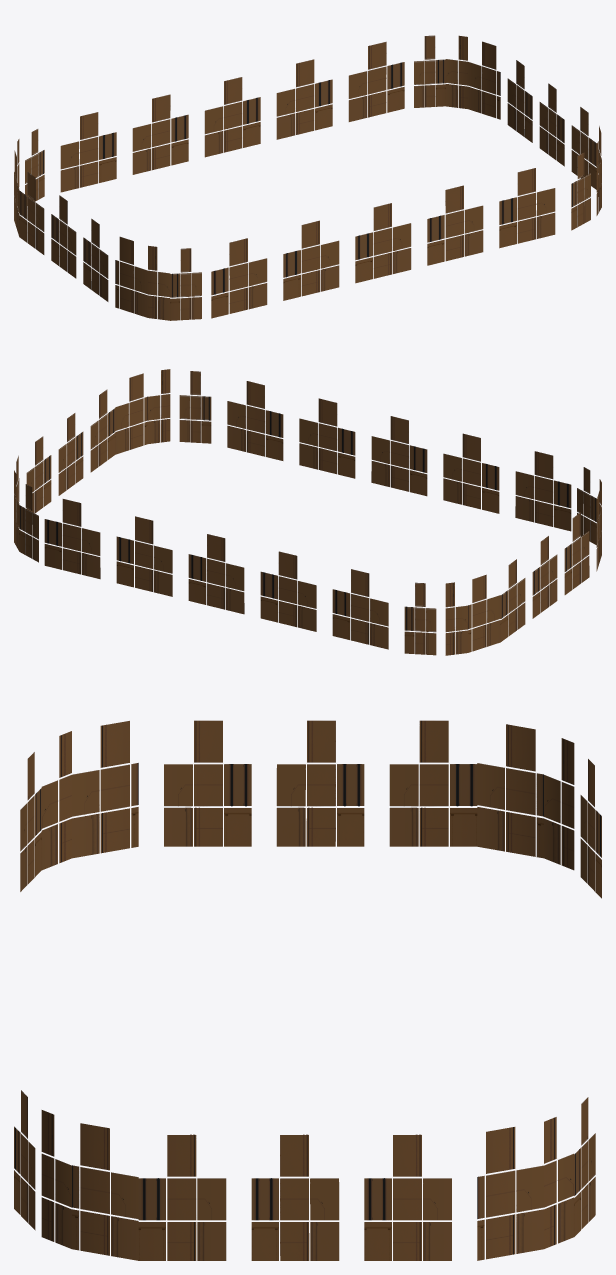
The model's file is ArenaShadows.fbx.
3 renders of one model, top to bottom at view 1: azimuth 30°, elevation 25°; view 2: azimuth 150°, elevation 25°; view 3: azimuth 270°, elevation 25°, orthographic. The views are drawn at different scales.
Parts seen in each view (by area): view 1: Arena.001; view 2: Arena.001; view 3: Arena.001.
Boxes of the visible parts, x1,y1,x2,y2 form: Arena.001: (14, 35, 601, 320); Arena.001: (14, 369, 601, 655); Arena.001: (14, 720, 601, 1260).
Bounding box in the file's own units: 2025 × 371 × 1215.
